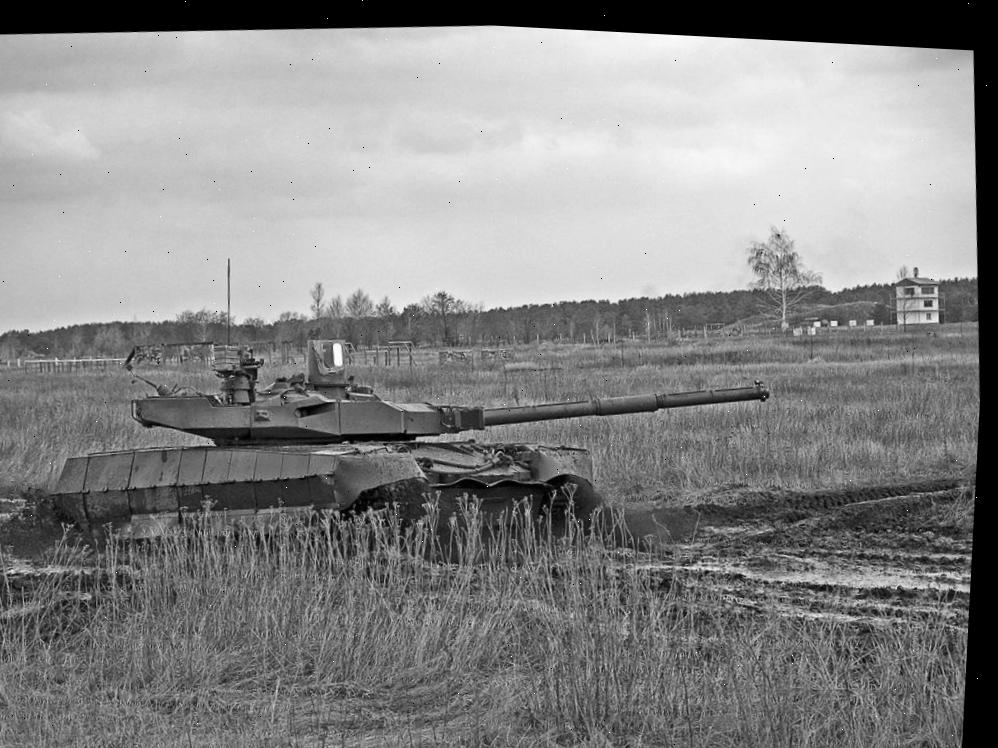tank: (34, 293, 785, 606)
